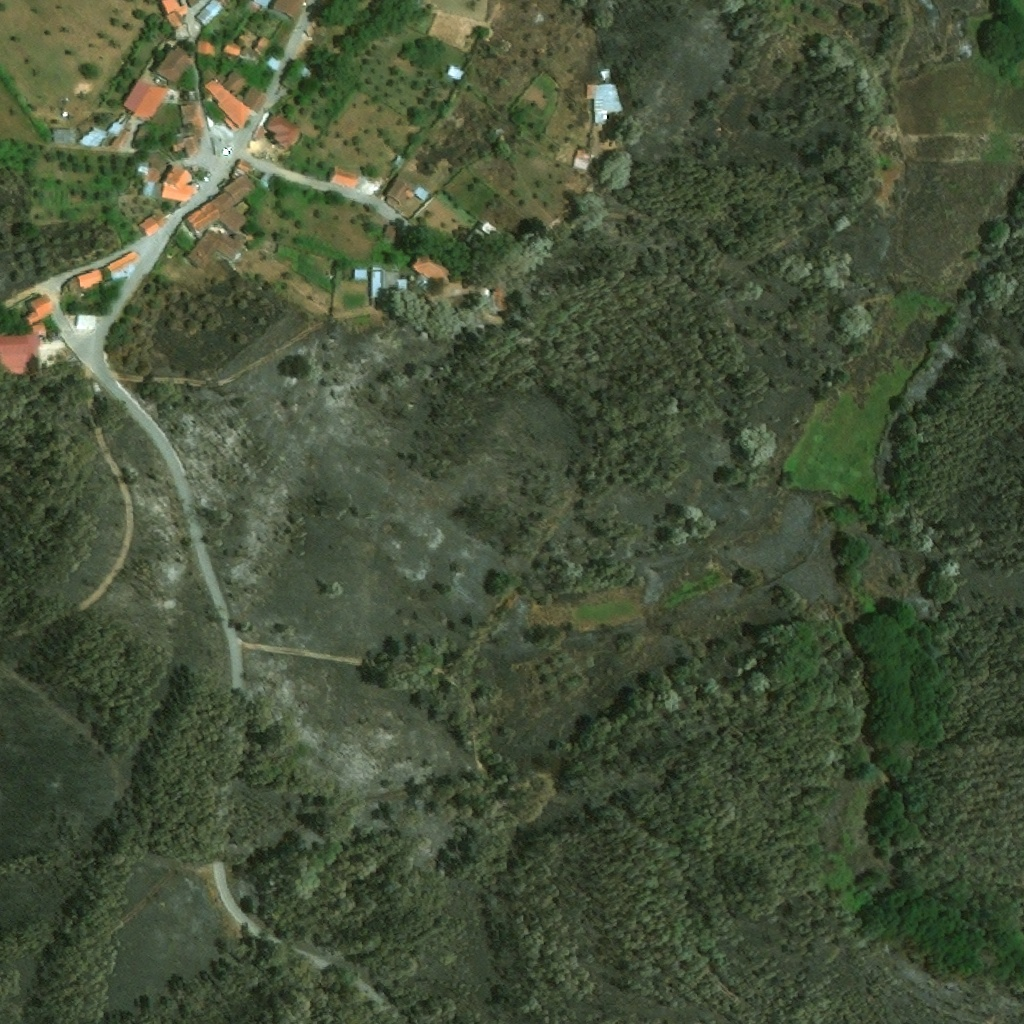0 no-damage: (180, 173, 259, 239), (121, 69, 174, 122), (203, 78, 252, 133), (184, 227, 245, 271), (155, 39, 199, 84), (264, 112, 306, 153), (585, 81, 623, 124), (383, 173, 432, 206), (160, 163, 200, 203), (0, 333, 39, 374), (409, 249, 452, 286), (104, 249, 143, 282), (194, 0, 233, 27), (23, 295, 55, 326), (179, 100, 204, 135), (161, 0, 189, 29), (139, 210, 168, 237), (326, 168, 360, 190), (223, 68, 249, 95), (243, 85, 268, 113), (75, 268, 105, 291), (170, 135, 199, 157), (80, 126, 108, 147), (488, 282, 507, 310), (572, 148, 594, 172), (442, 63, 466, 84), (383, 271, 407, 291), (197, 37, 218, 57), (221, 40, 244, 58), (369, 271, 383, 299), (253, 36, 272, 56), (52, 129, 76, 143), (108, 120, 125, 139), (75, 315, 96, 330), (382, 225, 398, 243), (241, 47, 259, 63), (481, 220, 497, 236), (142, 182, 158, 198), (235, 159, 253, 173), (265, 55, 281, 70), (175, 23, 189, 40), (238, 32, 252, 46), (354, 269, 368, 282), (31, 324, 46, 336), (599, 67, 612, 80), (137, 161, 150, 174), (297, 66, 311, 77), (342, 267, 351, 280), (63, 111, 69, 117)
4 un-classified: (272, 0, 306, 19), (414, 277, 429, 291), (250, 0, 275, 7)
